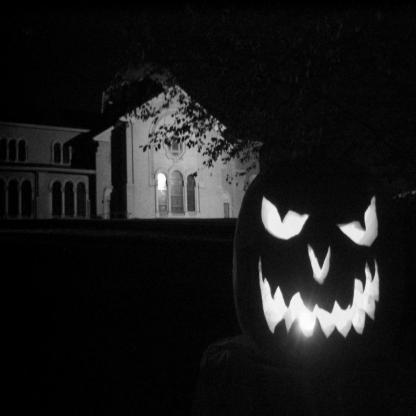Pumpkin: (232, 148, 394, 392)
